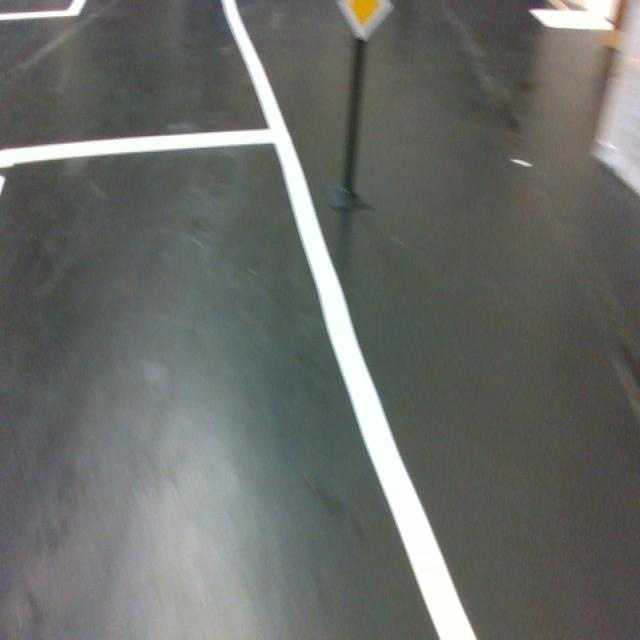priority-sign: (335, 0, 395, 43)
